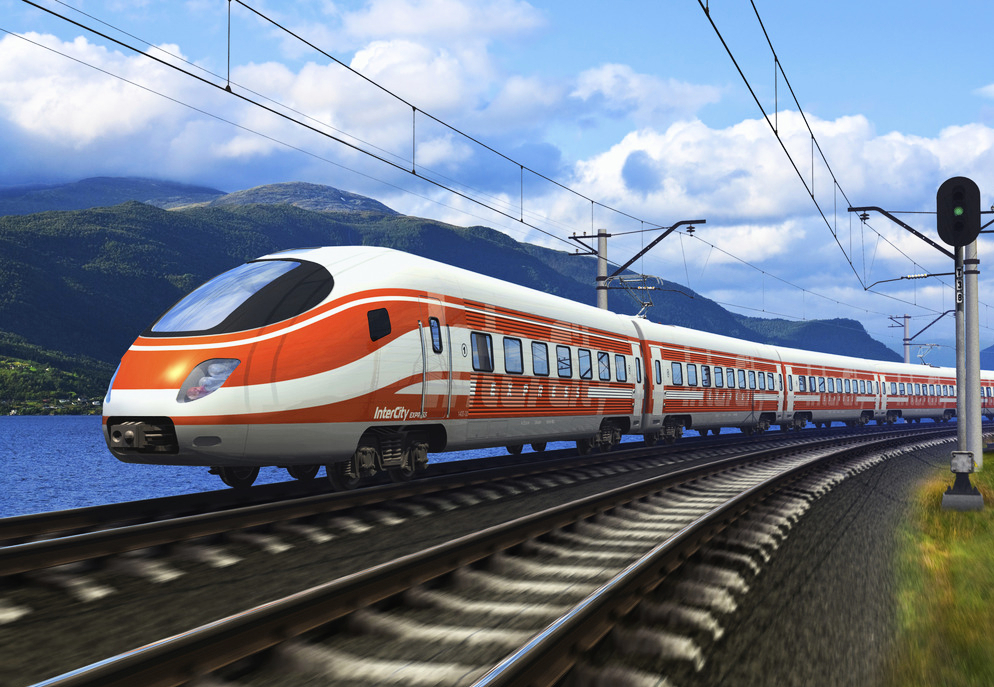hsrw: (99, 243, 994, 487)
